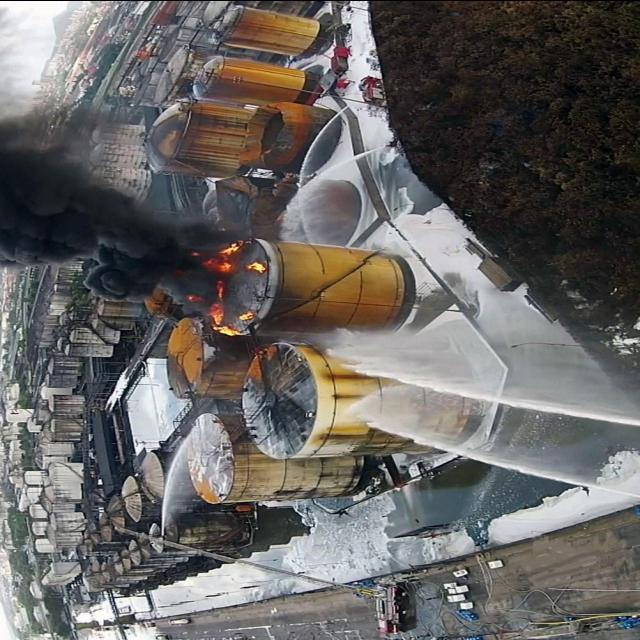Fire: (206, 301, 226, 324), (214, 238, 240, 255), (242, 258, 268, 273), (212, 325, 240, 337), (238, 309, 254, 321), (216, 260, 234, 270)
